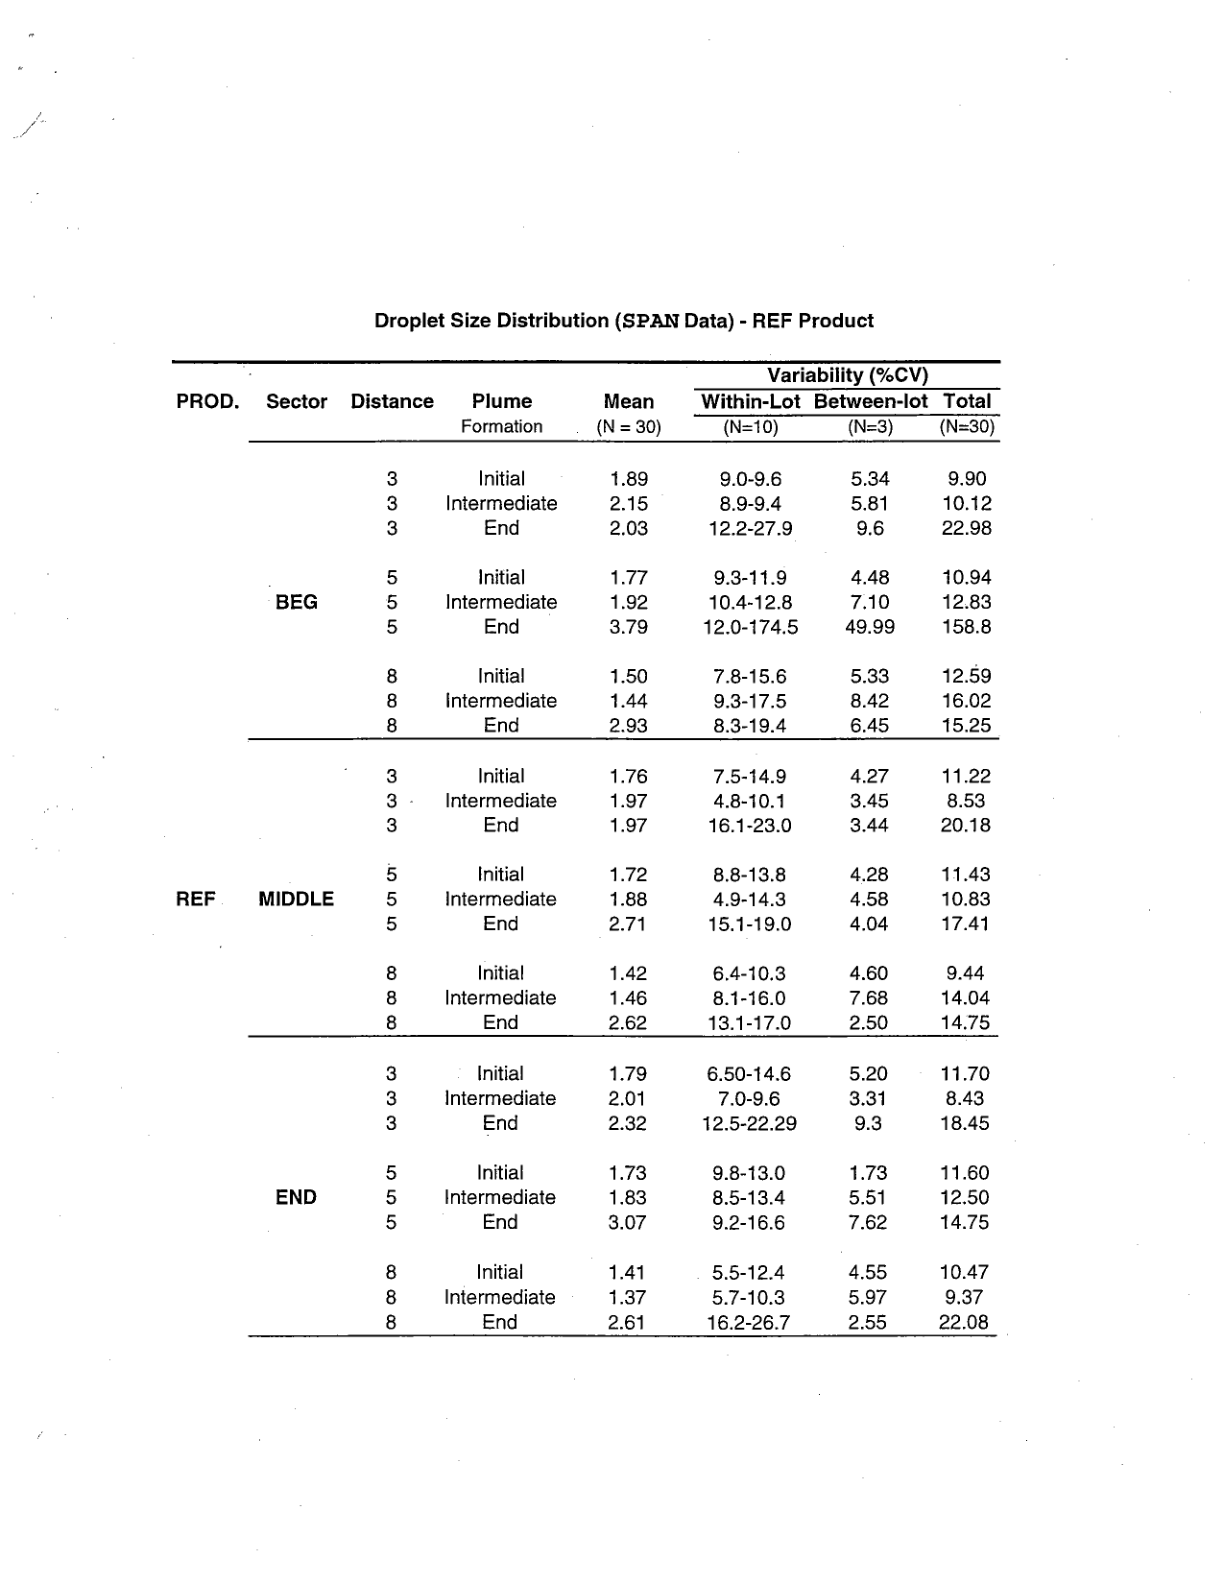partial_lined_merged_cells: (168, 359, 1003, 1342)
